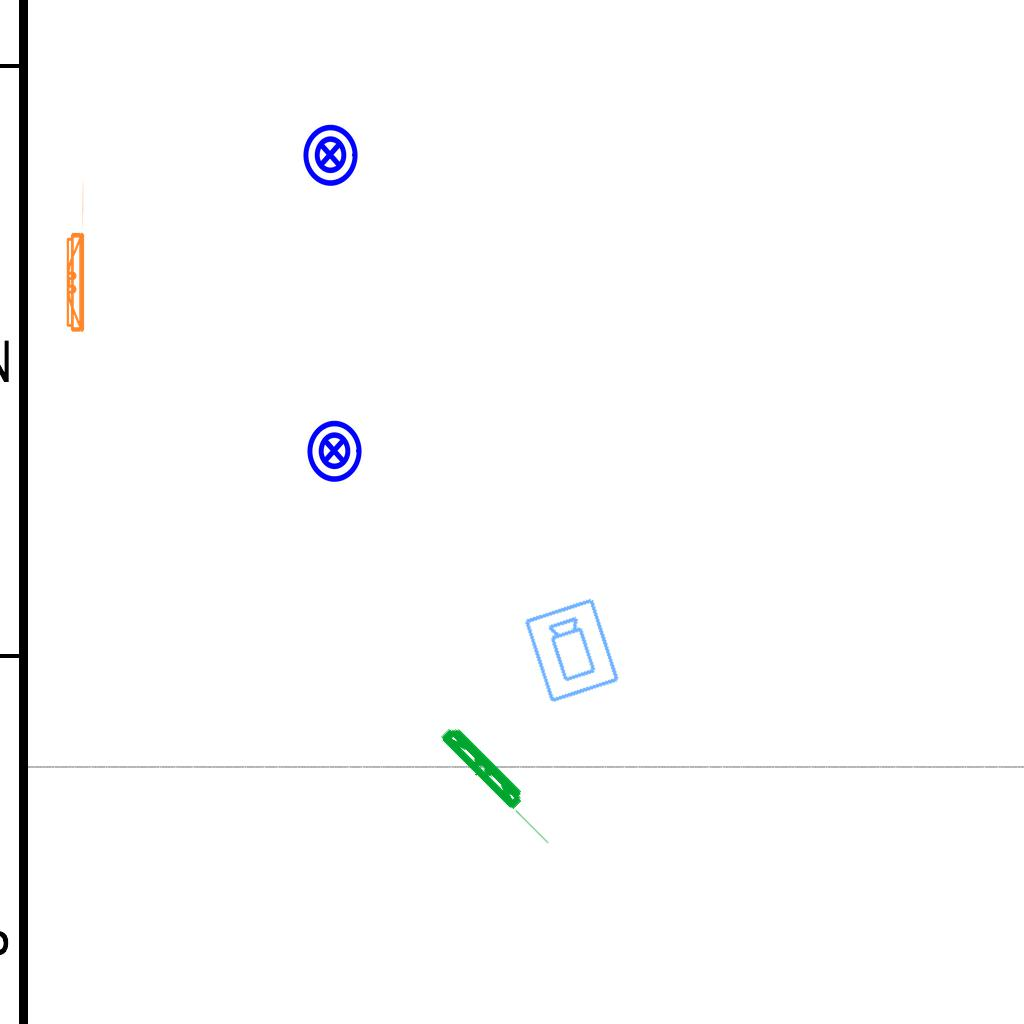KFO_Kamera_mit_Festobjektiv: (521, 595, 624, 706)
Sicherheitsleuchte_Wandeinbau: (436, 719, 567, 850), (62, 178, 87, 337)
Taster_beleuchtet: (301, 418, 367, 484), (297, 122, 363, 188)
